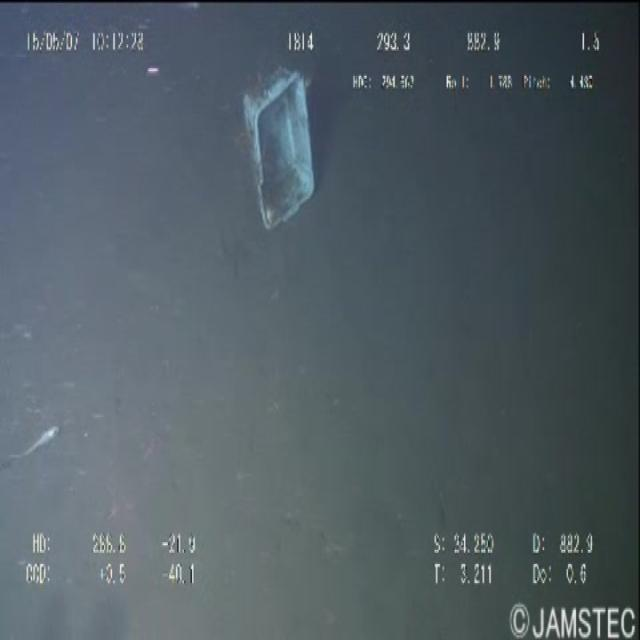Cutlery: (233, 63, 322, 235)
